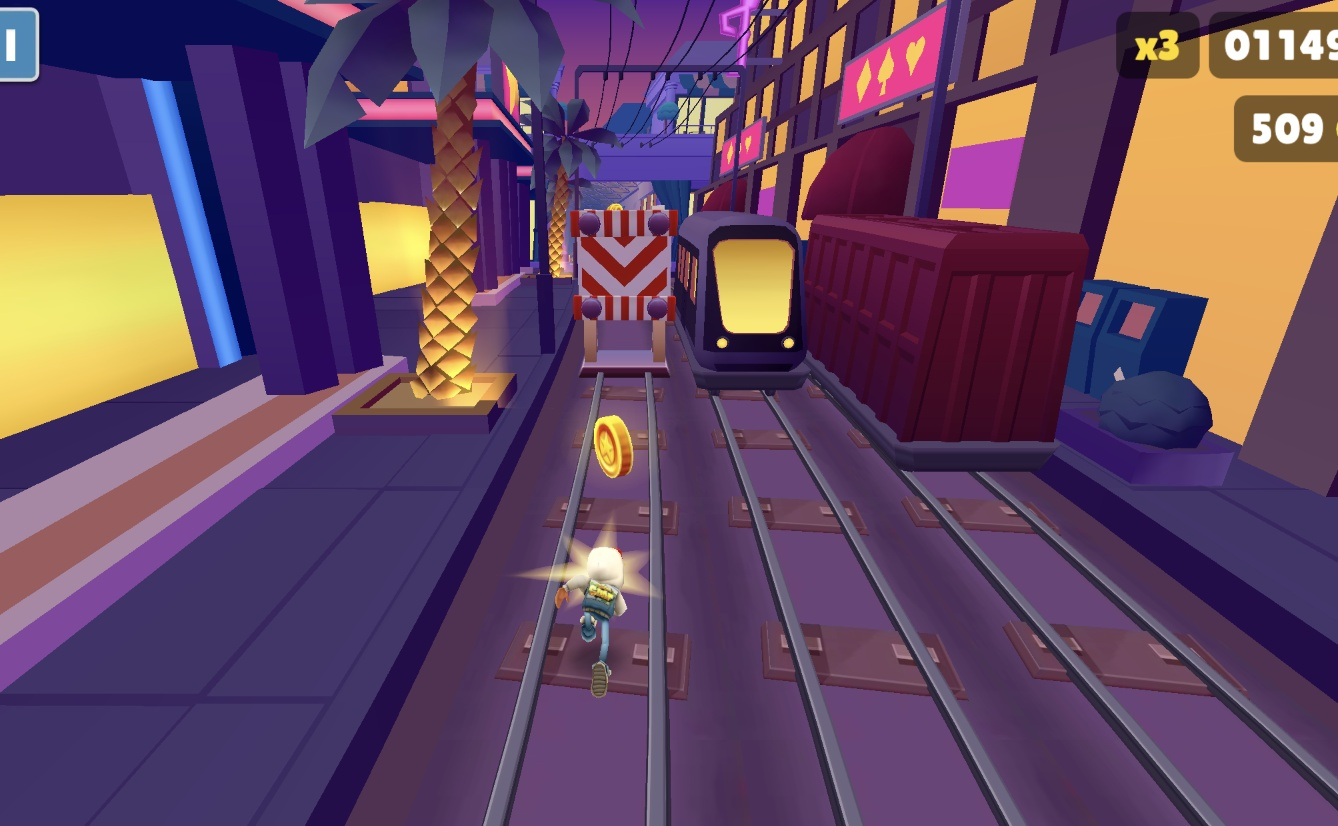overhead_barrier: (569, 205, 676, 377)
train: (796, 220, 1088, 447), (676, 217, 816, 394)
